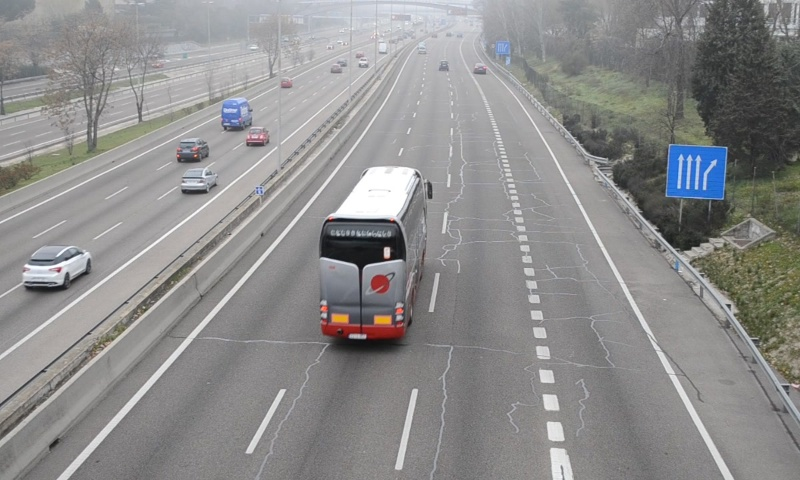bus: (316, 166, 427, 341)
car: (472, 62, 486, 74), (438, 59, 450, 71)
